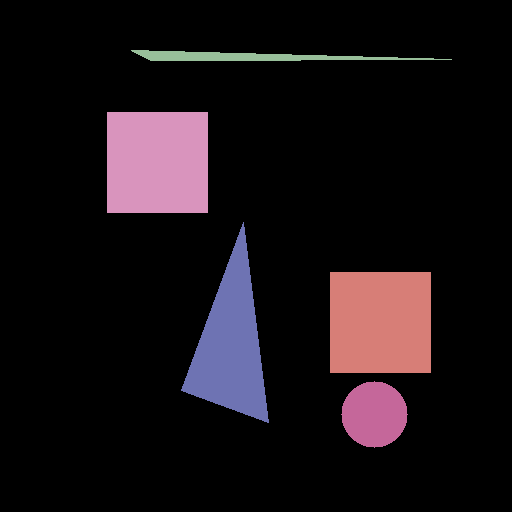circle: (341, 381, 407, 447)
square: (330, 272, 430, 372), (107, 112, 207, 212)
triangle: (181, 222, 268, 422)
